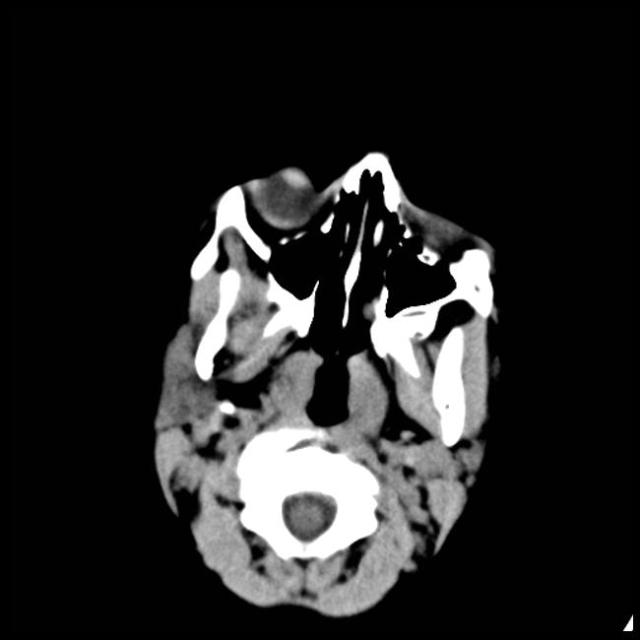lesion: (148, 147, 506, 619)
